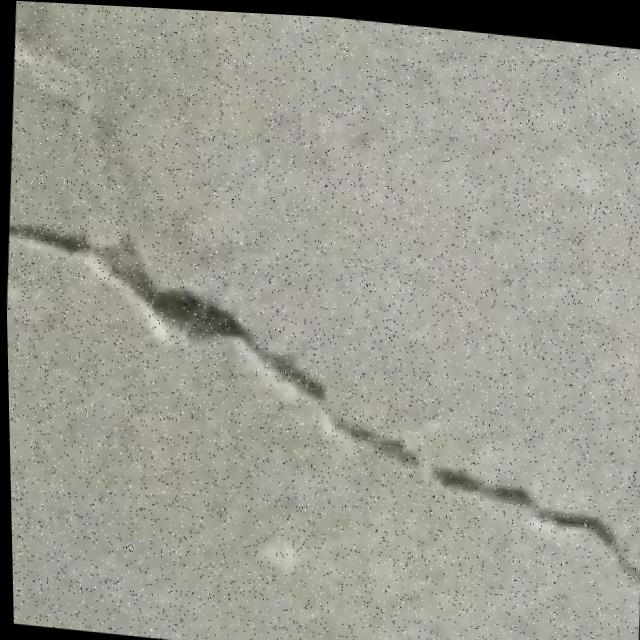Crack: (4, 214, 640, 593)
